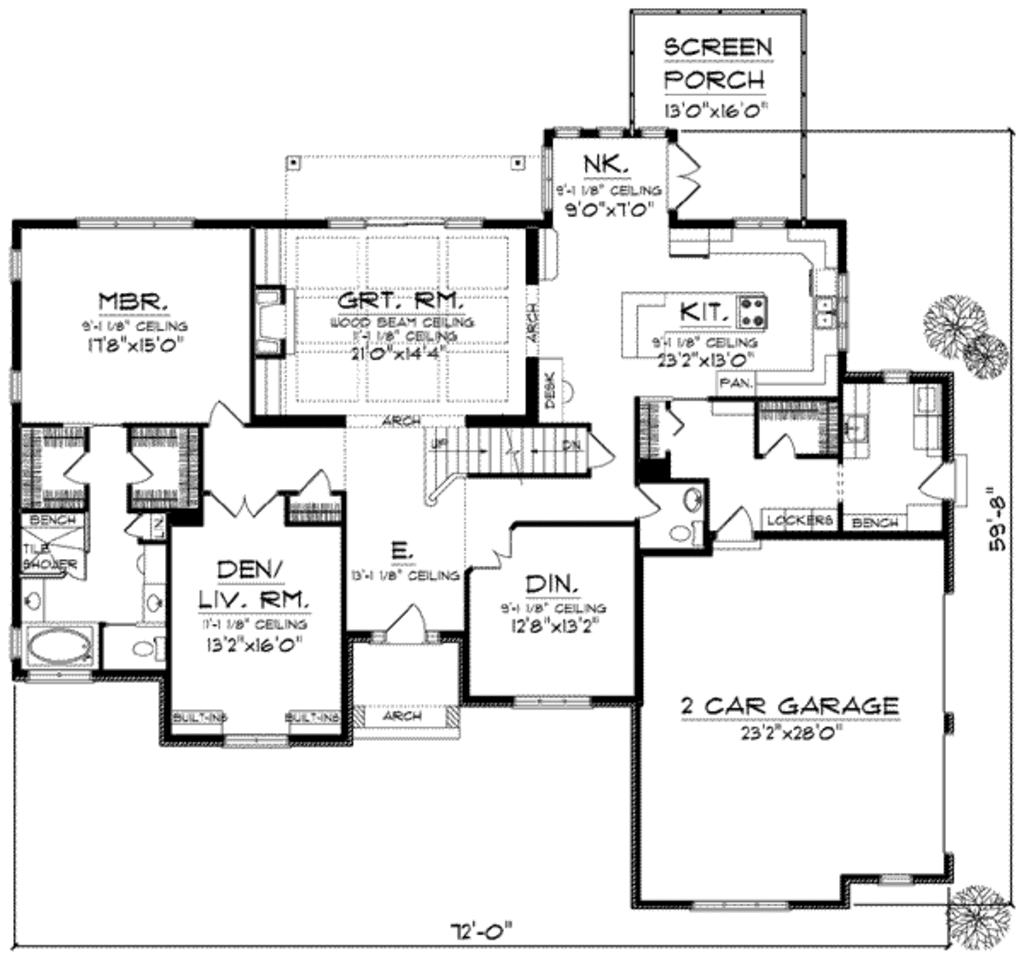door: (661, 138, 705, 212), (379, 601, 430, 646), (210, 486, 280, 518), (712, 499, 754, 550), (917, 458, 963, 502), (475, 531, 517, 578), (58, 445, 99, 488), (118, 445, 163, 484), (635, 479, 666, 526), (297, 463, 337, 497), (204, 396, 242, 428)
kitchen_bar: (616, 283, 771, 366)
large_sink: (124, 631, 169, 665), (660, 520, 701, 548)
stairs: (422, 413, 593, 500)
tub: (20, 621, 102, 673)
twin_sink: (815, 294, 840, 344)
windows: (69, 210, 194, 238), (320, 211, 486, 232), (547, 121, 667, 139), (685, 896, 791, 914), (218, 731, 297, 755), (510, 690, 591, 713), (540, 137, 559, 213)
